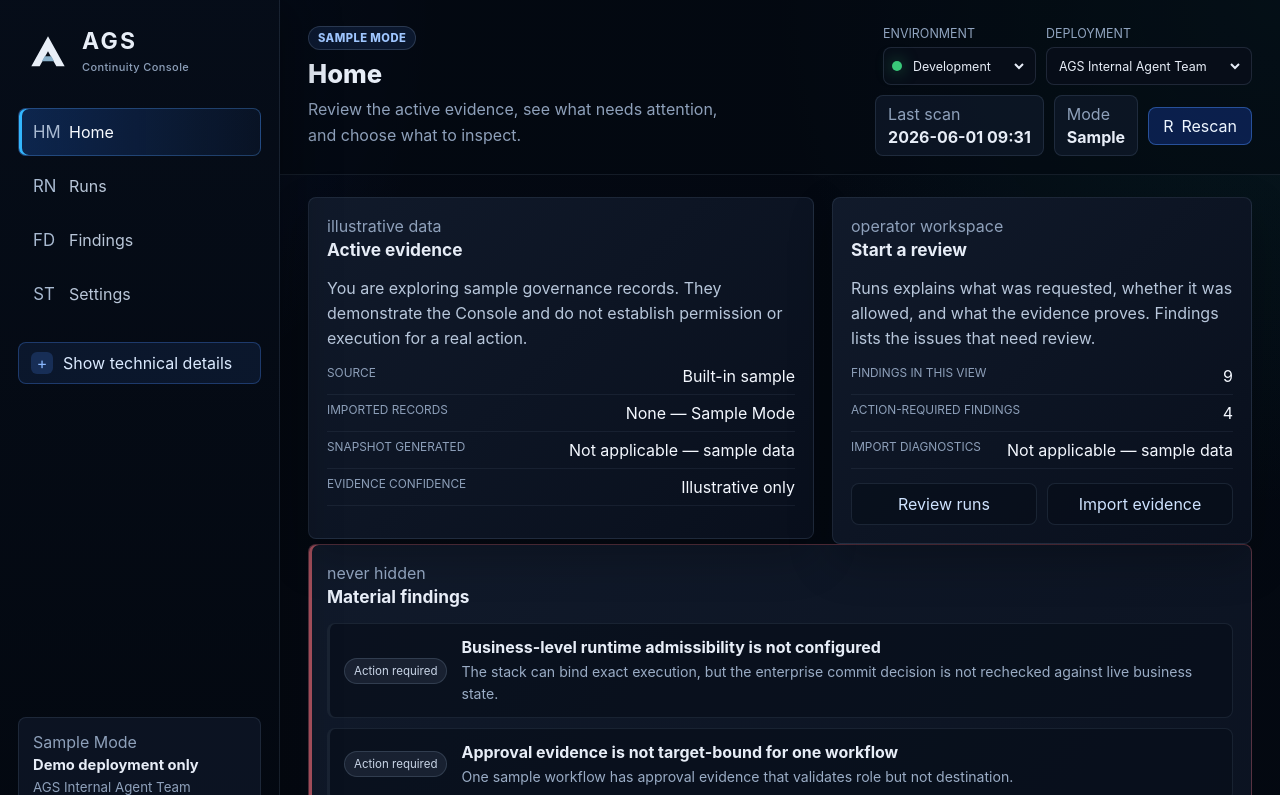
Scenario: Continuity Console operator shell › separates the Home overview from the four-question Runs review
Expected: the heading "Home" is shown, left=308, top=58, right=382, bottom=89
Expected: the text "SAMPLE MODE" is shown, left=308, top=26, right=416, bottom=50
Click the button "Review runs" at [944, 504], box left=851, top=483, right=1037, bottom=525
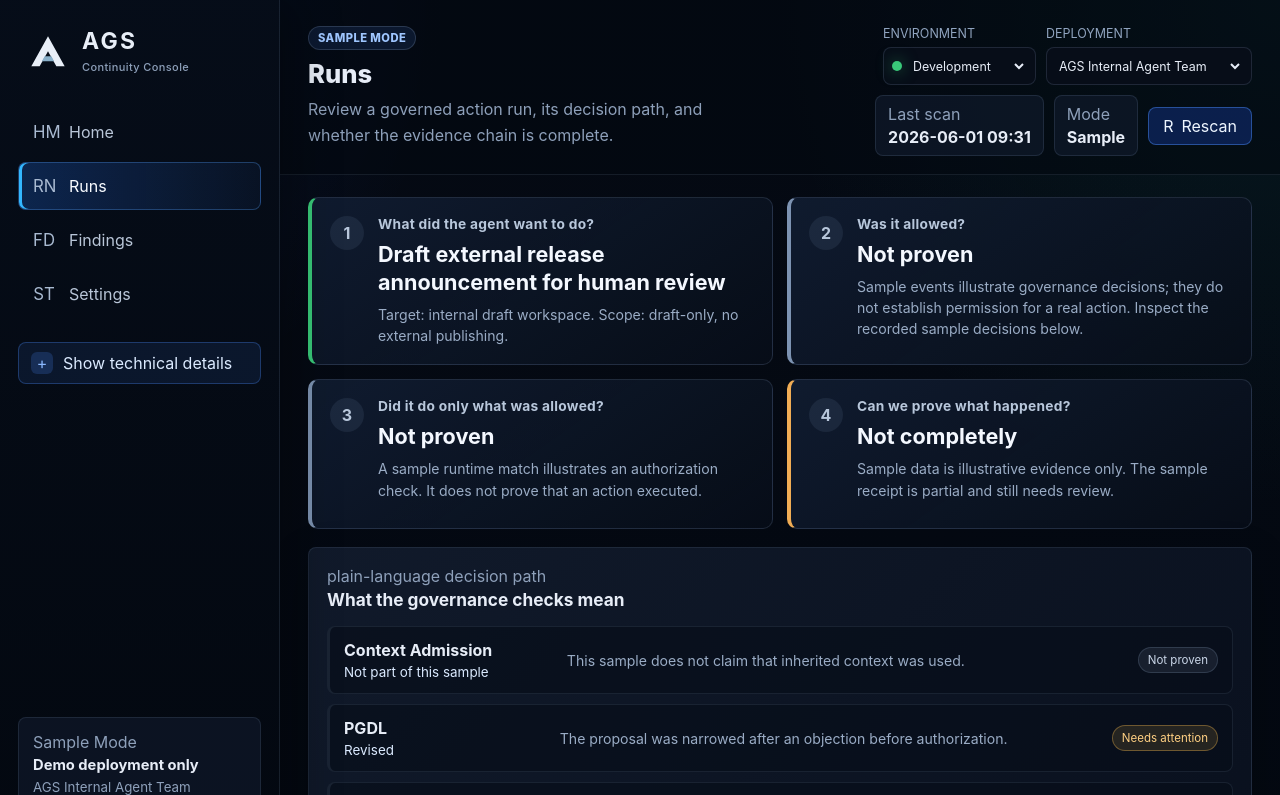
Expected: the heading "Runs" is shown, left=308, top=58, right=372, bottom=89
Expected: the text "What did the agent want to do?" is shown, left=378, top=216, right=594, bottom=232
Expected: the text "Was it allowed?" is shown, left=857, top=216, right=965, bottom=232
Click the button "Home" at [140, 132], box left=18, top=108, right=261, bottom=156
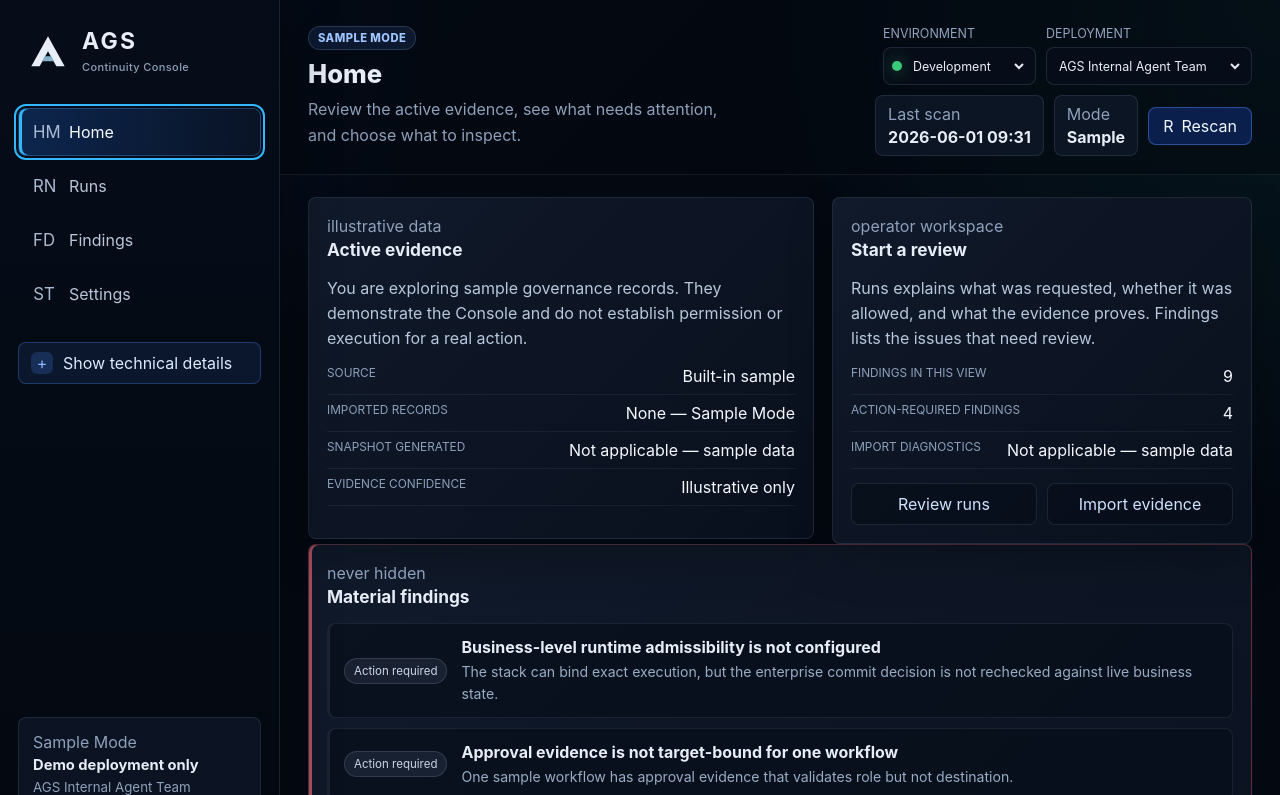
Click the button "+ Show technical details" at [140, 363], box left=18, top=342, right=261, bottom=384
(page scrolled)
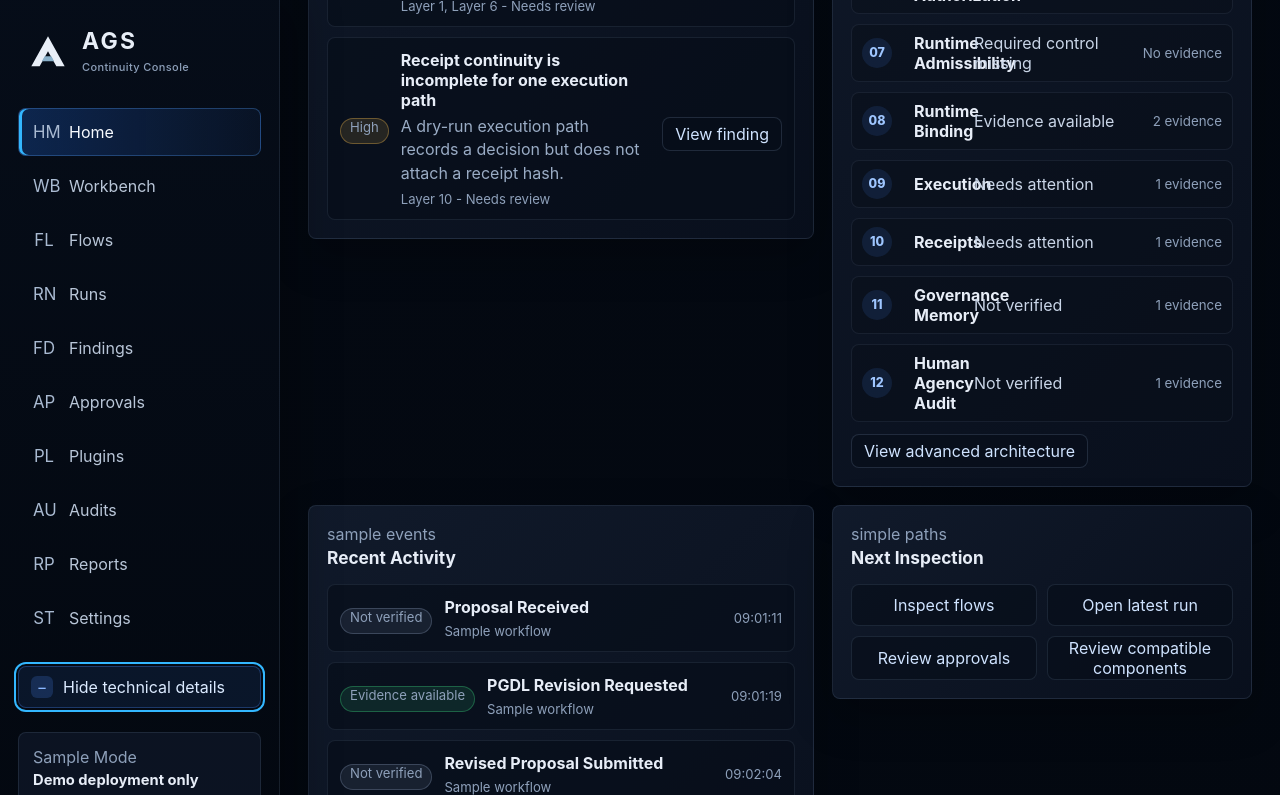
Expected: the number of elements with class "coverage-row" is 12
Expected: the heading "Recent Activity" is shown, left=327, top=547, right=456, bottom=568
Expected: the button "View advanced architecture" is shown, left=851, top=434, right=1088, bottom=468
